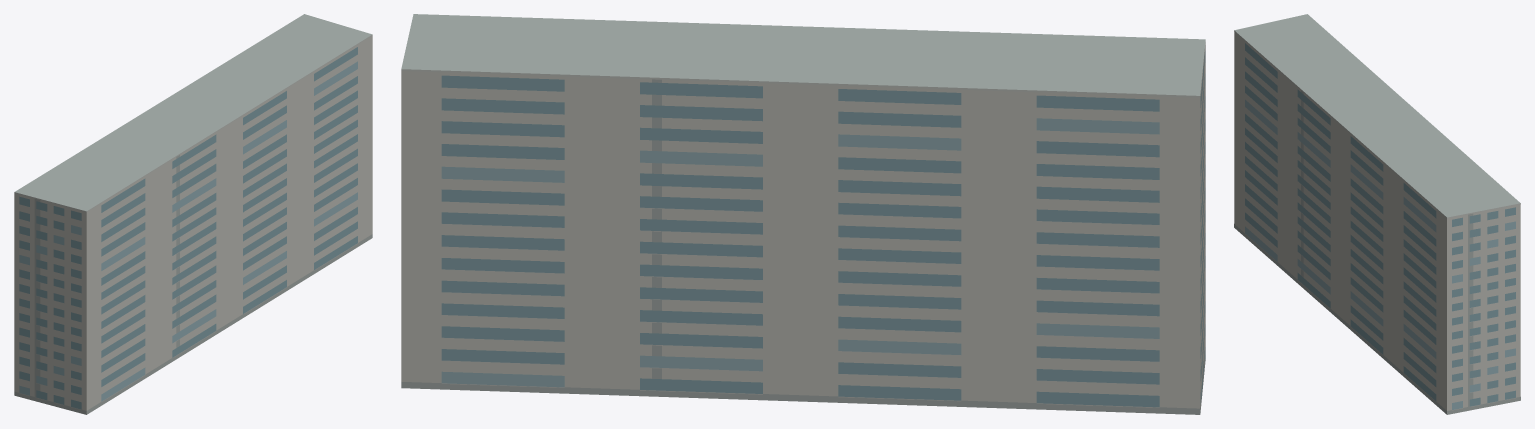
File: residential-538f0857-39b8-490c-9940-70dbbed9c437.glb
3 views of the same model, side by side, from view 1: azimuth 30°, elevation 25°; view 2: azimuth 150°, elevation 25°; view 3: azimuth 270°, elevation 25° (orthographic). The views are drawn at different scales.
Parts seen in each view (by area): view 1: residential-538f0857-39b8-490c-9940-70dbbed9c437.tmp; view 2: residential-538f0857-39b8-490c-9940-70dbbed9c437.tmp; view 3: residential-538f0857-39b8-490c-9940-70dbbed9c437.tmp.
Part boxes in pixels (left/top/right/bottom): residential-538f0857-39b8-490c-9940-70dbbed9c437.tmp: left=14, top=14, right=372, bottom=414; residential-538f0857-39b8-490c-9940-70dbbed9c437.tmp: left=401, top=14, right=1205, bottom=414; residential-538f0857-39b8-490c-9940-70dbbed9c437.tmp: left=1234, top=14, right=1520, bottom=414.
Size of the model in its own units: 94.43 by 42.7 by 56.2.
